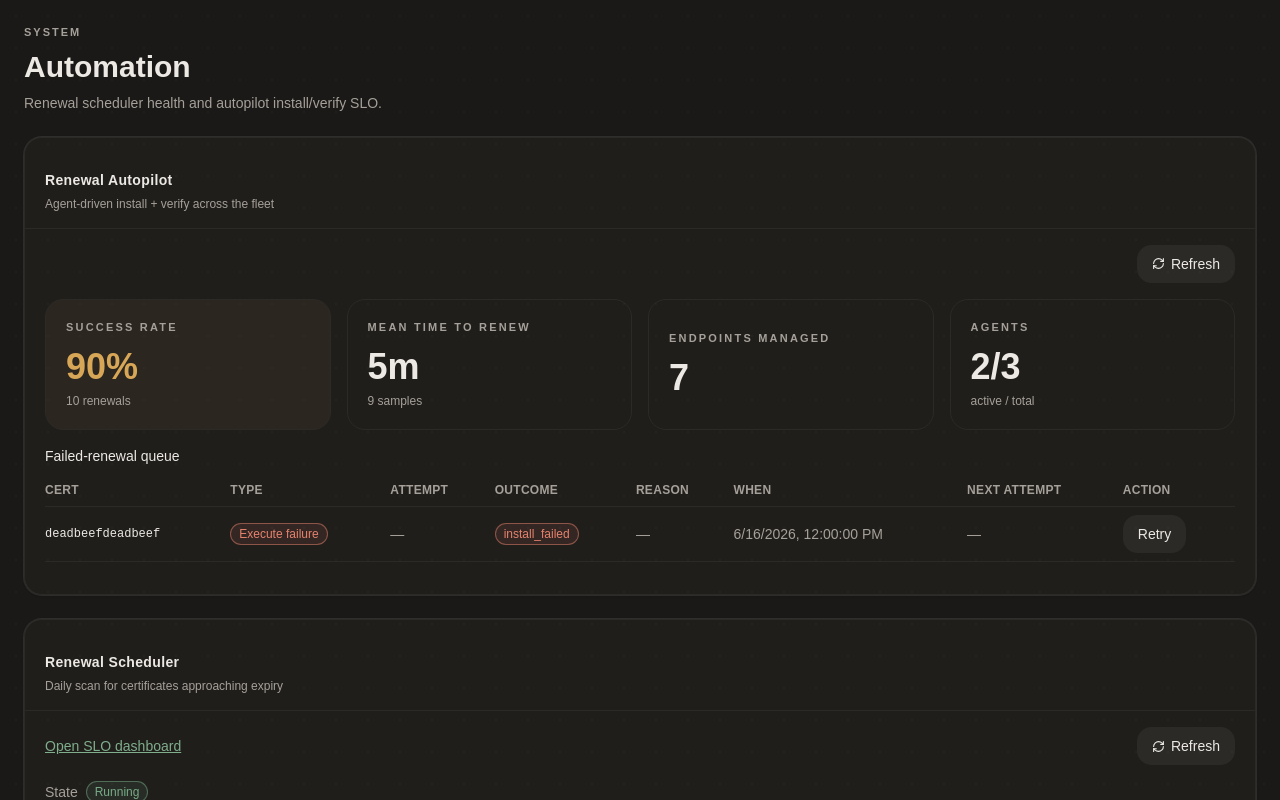
Test: Automation page — failed-renewal queue › retry error is shown in the row
Click the button with aria-label "Retry renewal deadbeefdead" at [1155, 534], box [1123, 515, 1186, 553]
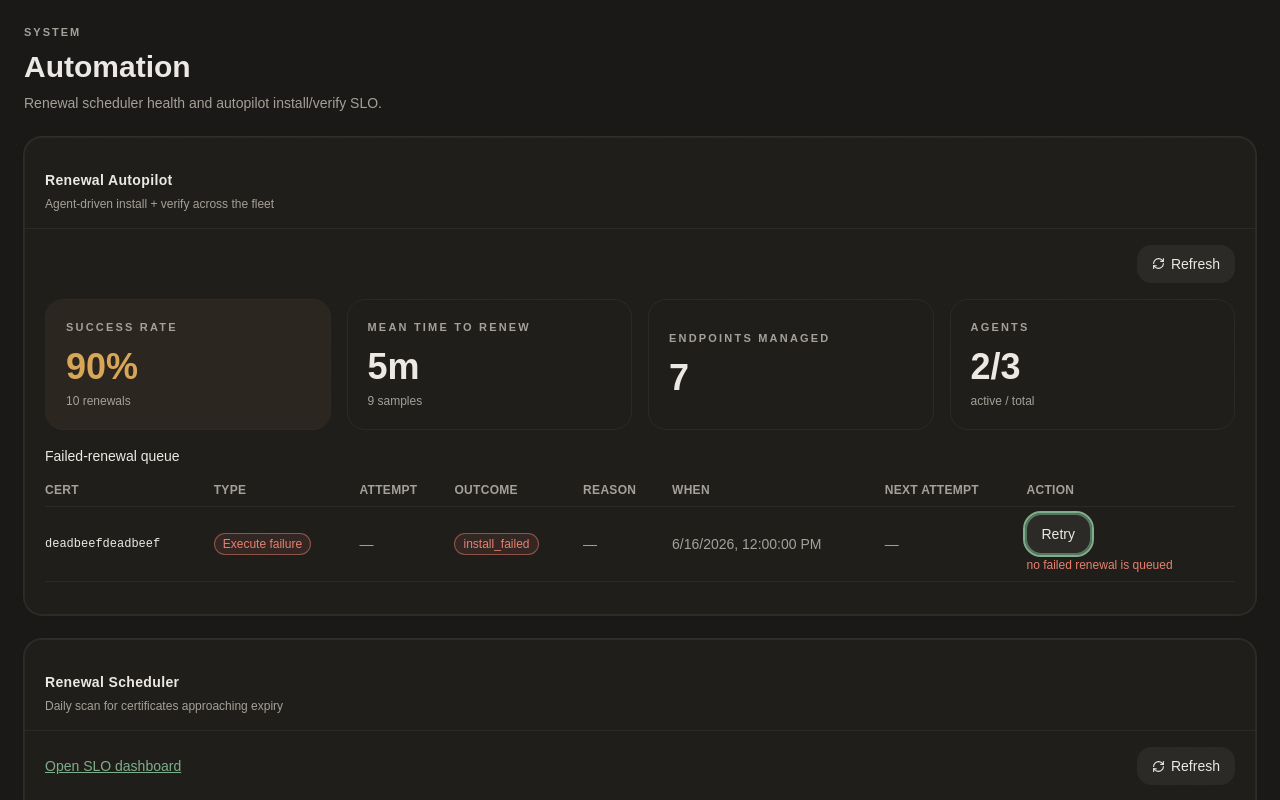
Expected: the text "no failed renewal is queued" is shown, [1026, 558, 1173, 572]
